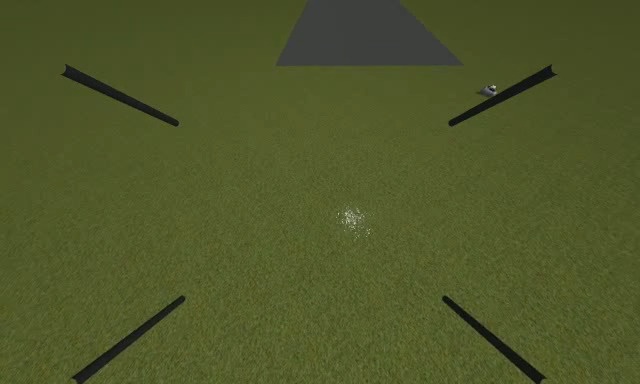Car: (481, 83, 501, 98)
